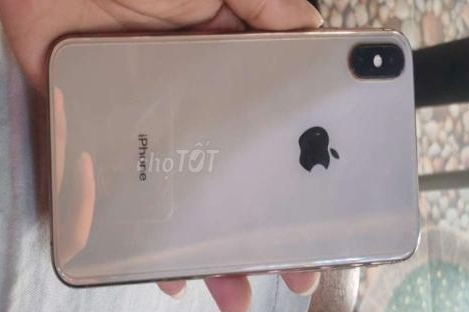scratch: (397, 67, 406, 78)
